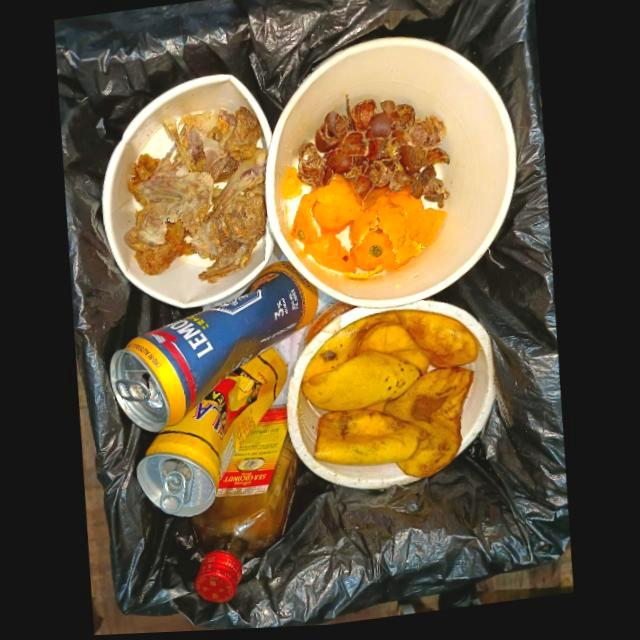aluminum: (111, 265, 318, 434), (138, 351, 288, 518)
glass_bottle: (194, 406, 299, 604)
left_over_food: (124, 155, 242, 277), (198, 150, 267, 285), (161, 109, 266, 185)
